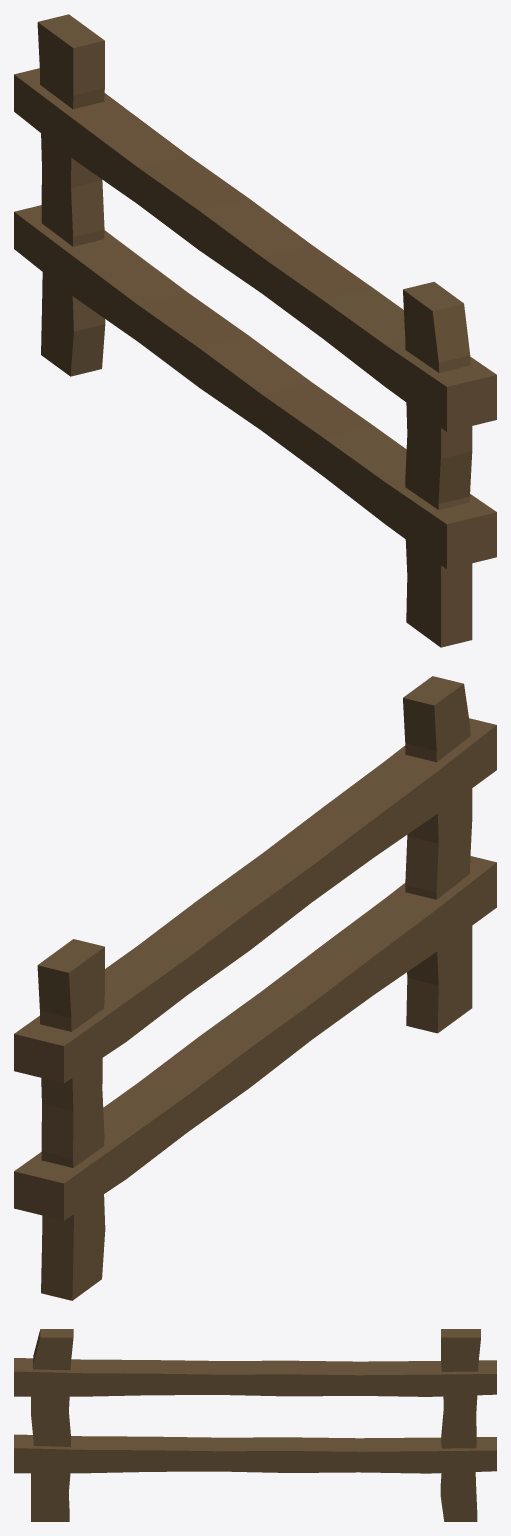
The model's file is FENCE.fbx.
The picture shows the model from 3 angles, top to bottom: view 1: azimuth 30°, elevation 25°; view 2: azimuth 150°, elevation 25°; view 3: azimuth 270°, elevation 25°; orthographic projection. The views are drawn at different scales.
Visible parts, largest first — view 1: Cube.001; view 2: Cube.001; view 3: Cube.001.
Part boxes in pixels (left/top/right/bottom): Cube.001: left=14, top=14, right=496, bottom=647; Cube.001: left=14, top=676, right=496, bottom=1300; Cube.001: left=14, top=1329, right=496, bottom=1521.
Bounding box in the file's own units: 10.73 × 67.62 × 161.
